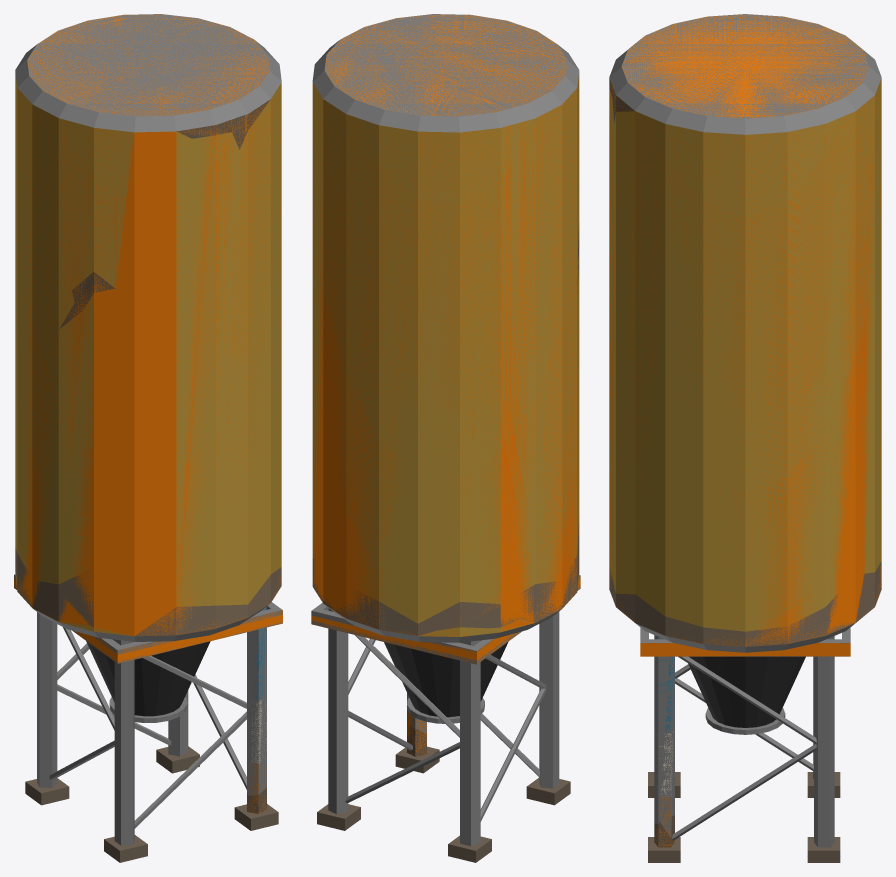
File: model_oil_tank_01.fbx
The picture shows the model from 3 angles, left to right: view 1: azimuth 30°, elevation 25°; view 2: azimuth 150°, elevation 25°; view 3: azimuth 270°, elevation 25°; orthographic projection.
Parts seen in each view (by area): view 1: model_oil_tank_01, model_oil_tank_01_col; view 2: model_oil_tank_01, model_oil_tank_01_col; view 3: model_oil_tank_01, model_oil_tank_01_col.
Boxes of the visible parts, left/top/right/bottom form: model_oil_tank_01: left=14, top=14, right=282, bottom=862; model_oil_tank_01_col: left=14, top=14, right=282, bottom=813; model_oil_tank_01: left=311, top=14, right=580, bottom=862; model_oil_tank_01_col: left=311, top=14, right=580, bottom=755; model_oil_tank_01: left=609, top=14, right=881, bottom=862; model_oil_tank_01_col: left=609, top=14, right=881, bottom=847.
Size of the model in its own units: 168 by 515 by 168.
1 material, 1 textured.
